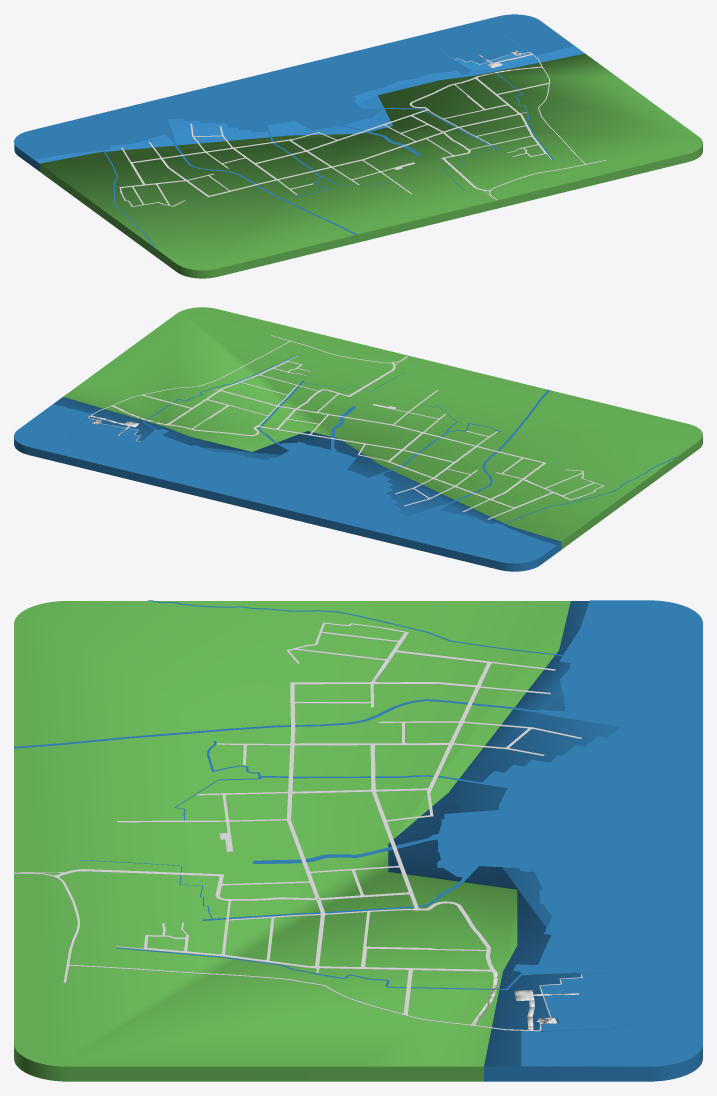
The model's file is roads.glb.
The picture shows the model from 3 angles, top to bottom: view 1: azimuth 30°, elevation 25°; view 2: azimuth 150°, elevation 25°; view 3: azimuth 270°, elevation 25°; orthographic projection. The views are drawn at different scales.
Visible parts, largest first — view 1: BaseLand, air, BaseSea, jalan.007; view 2: BaseLand, air, BaseSea, jalan.007; view 3: BaseLand, air, BaseSea, jalan.007.
Boxes of the visible parts, x1=… form: BaseLand: x1=39, y1=53, x2=702, y2=278; air: x1=14, y1=14, x2=574, y2=247; BaseSea: x1=14, y1=14, x2=584, y2=171; jalan.007: x1=119, y1=50, x2=606, y2=206; BaseLand: x1=63, y1=307, x2=702, y2=549; air: x1=14, y1=355, x2=676, y2=563; BaseSea: x1=14, y1=397, x2=561, y2=571; jalan.007: x1=87, y1=335, x2=604, y2=519; BaseLand: x1=14, y1=601, x2=570, y2=1081; air: x1=14, y1=600, x2=702, y2=1066; BaseSea: x1=388, y1=601, x2=702, y2=1081; jalan.007: x1=14, y1=622, x2=582, y2=1031.
Bounding box in the file's own units: 6.09 × 0.1 × 3.8.
